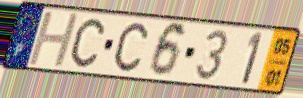1: (240, 31, 265, 88)
3: (192, 28, 231, 83)
6: (146, 21, 189, 82)
C: (112, 21, 150, 74), (69, 16, 106, 70)
H: (25, 11, 82, 68)
